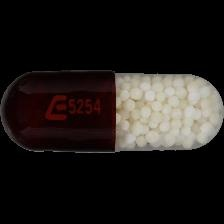63629-3051: (0, 0, 224, 224)
